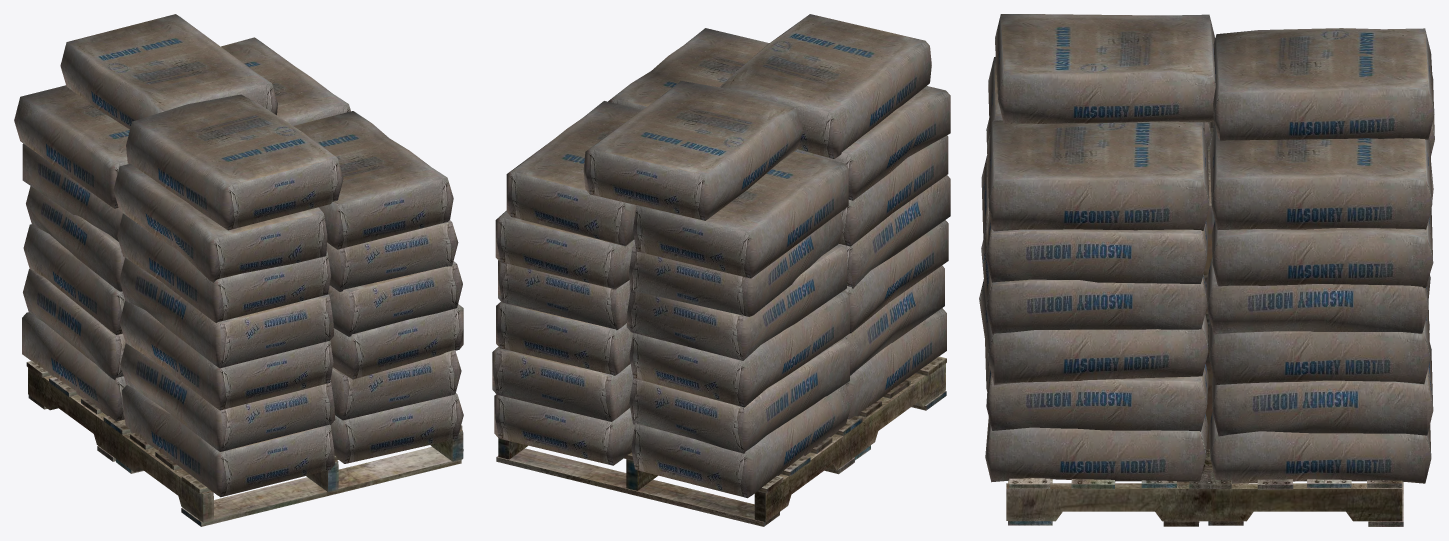
Rendered from concretebags2.glb.
3 renders of one model, left to right at view 1: azimuth 30°, elevation 25°; view 2: azimuth 150°, elevation 25°; view 3: azimuth 270°, elevation 25°, orthographic. The views are drawn at different scales.
Visible parts, largest first — view 1: 0_concretebags, 1_Wood_Pallet_01; view 2: 0_concretebags, 1_Wood_Pallet_01; view 3: 0_concretebags, 1_Wood_Pallet_01.
Boxes of the visible parts, box(x1,y1,x2,y2) form: 0_concretebags: box(14, 14, 463, 497); 1_Wood_Pallet_01: box(26, 361, 463, 526); 0_concretebags: box(492, 14, 950, 498); 1_Wood_Pallet_01: box(496, 356, 946, 526); 0_concretebags: box(979, 14, 1434, 483); 1_Wood_Pallet_01: box(1006, 449, 1403, 526).
Size of the model in its own units: 1.24 by 1.51 by 1.64.
2 materials, 2 textured.
